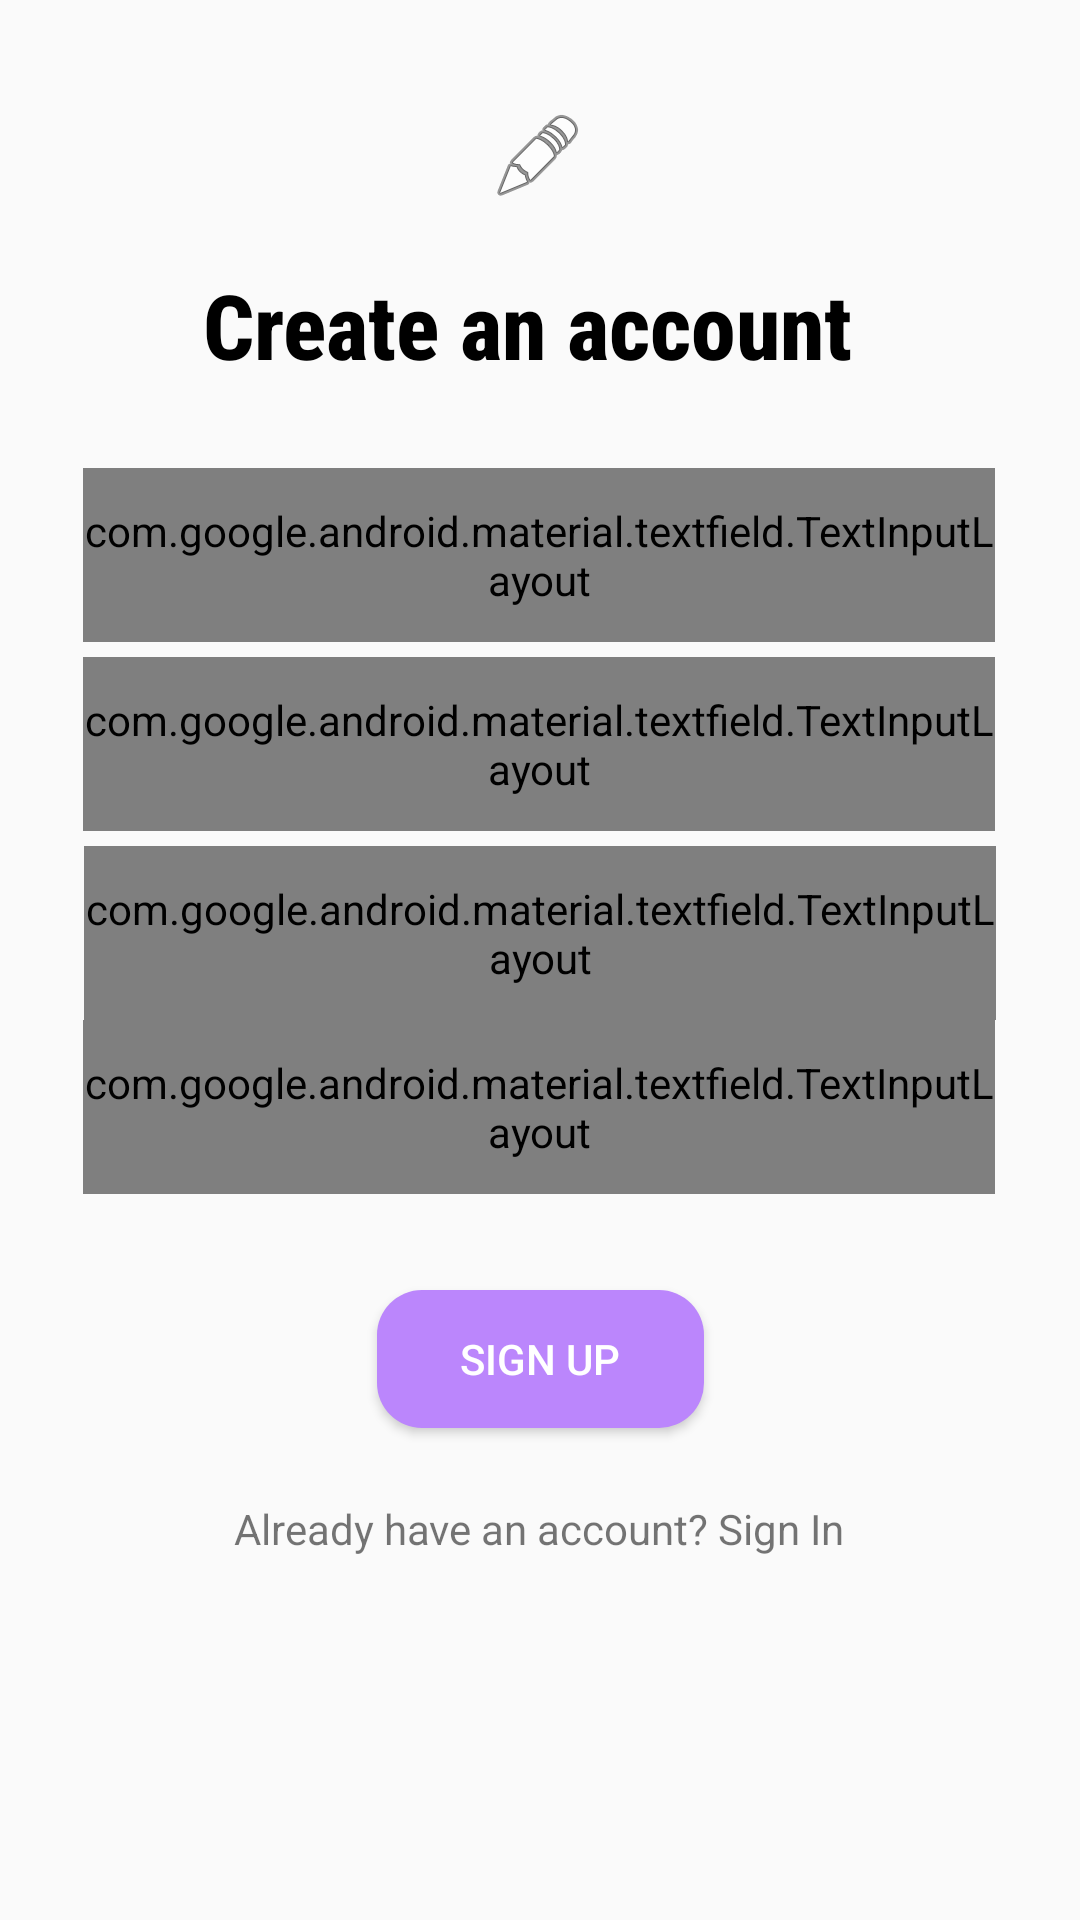

Point at icon controls on the screen. Image size 1080w x 1920h, points as (x,y).
edit: (537,155)
